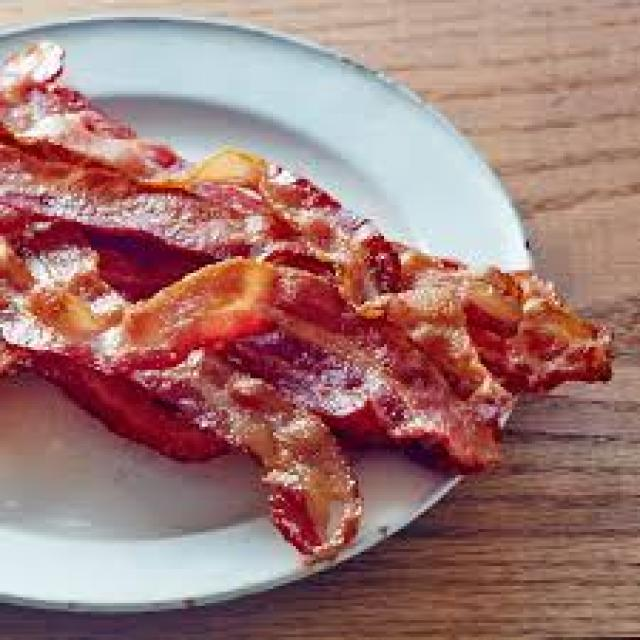Bacon: (0, 246, 430, 439), (30, 346, 362, 558), (0, 126, 300, 257), (228, 319, 386, 439)
